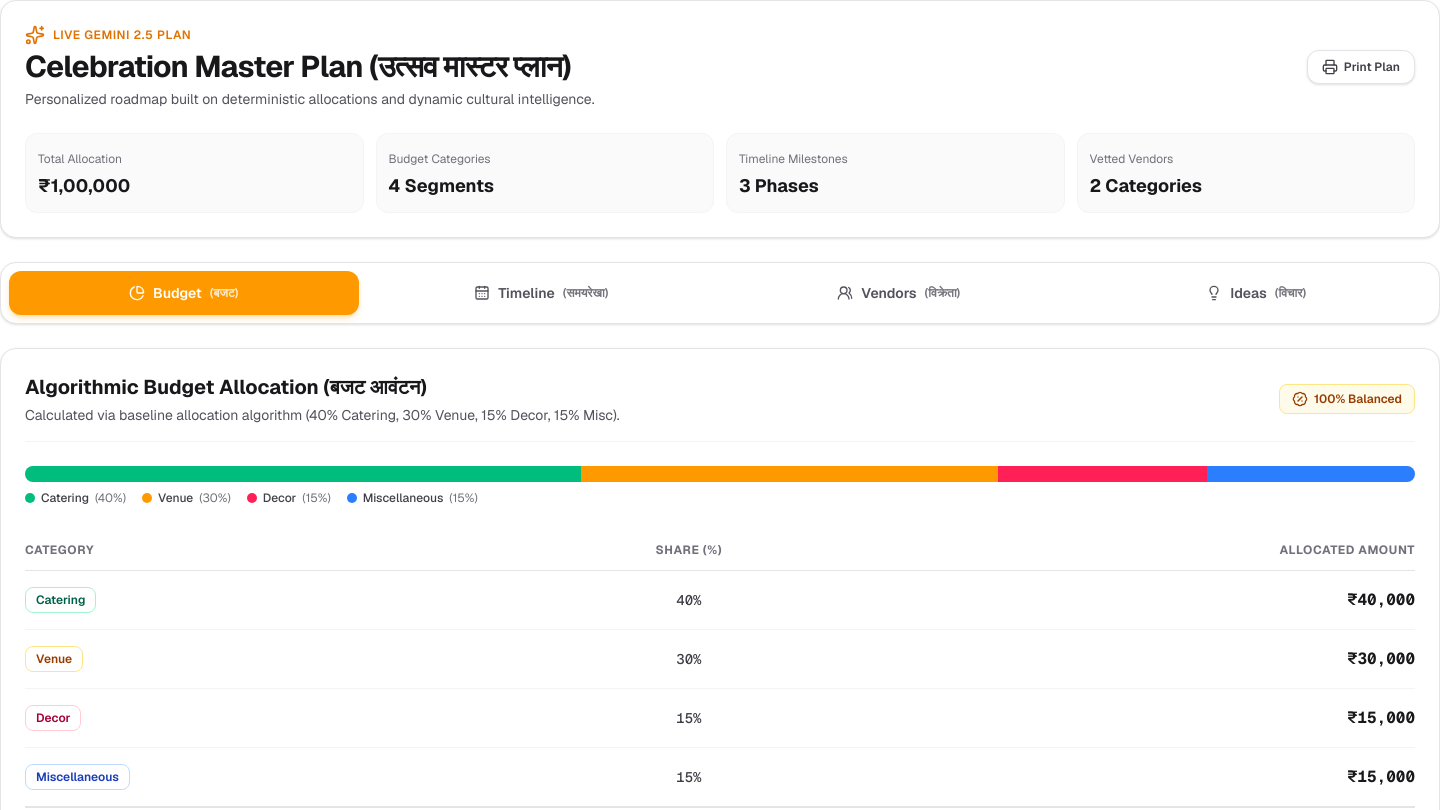
Day 2: UI, Dashboard & Accessibility Tests › 2. PlanDashboard Component & Full WAI-ARIA Tab Accessibility › should render Vendors tab with questions and accessible accordion toggles
Click the tab "Vendors (विक्रेता)". click: (899, 293)
box: [724,271,1074,315]
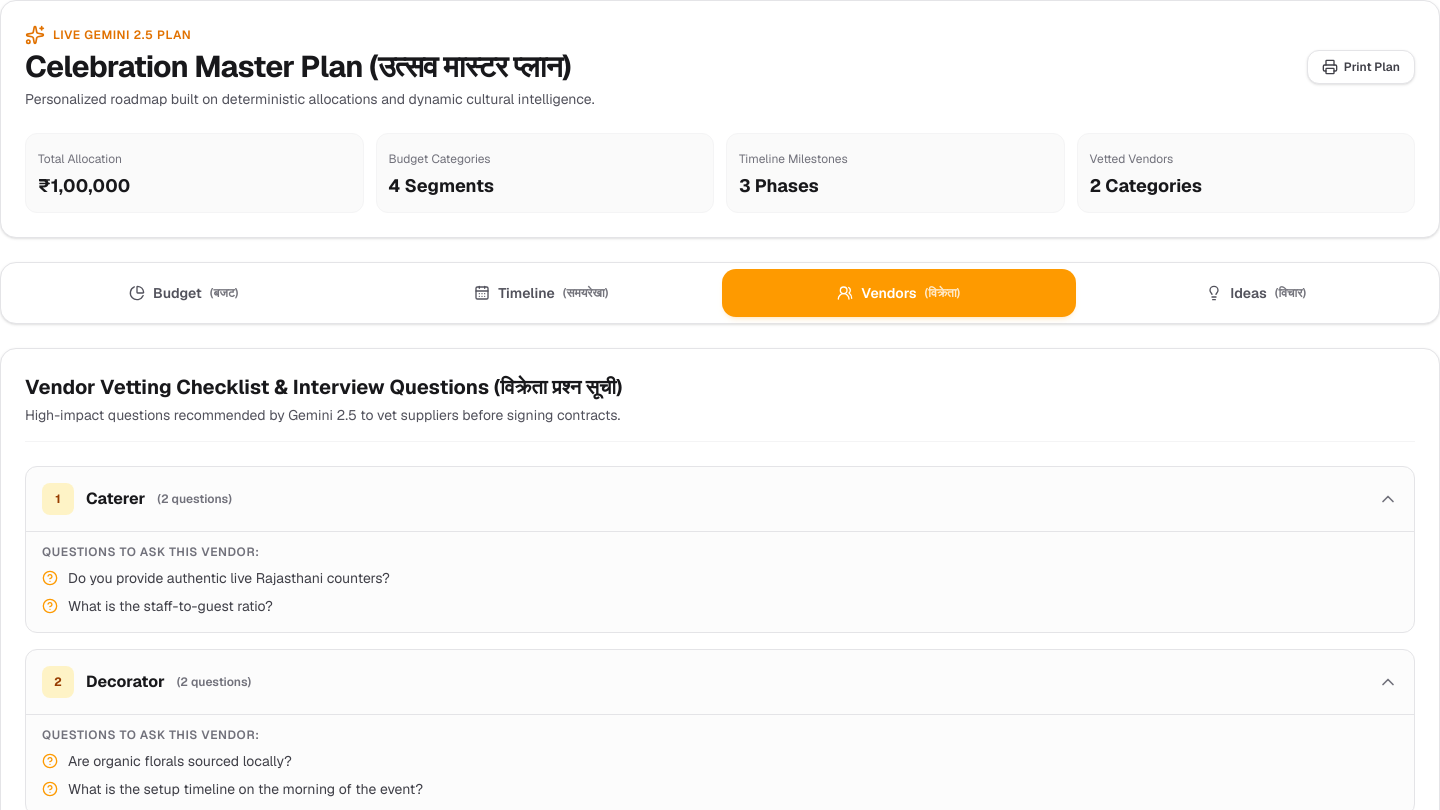
expect the text "Caterer" is shown: met, box [86,487,145,511]
expect the text "Decorator" is shown: met, box [86,670,165,694]
expect the text "Do you provide authentic live Rajasthani counters?" is shown: met, box [68,568,390,588]
Collapse accordion
Click the button "1 Caterer (2 questions)". click: (58, 499)
box: [26,467,1414,531]
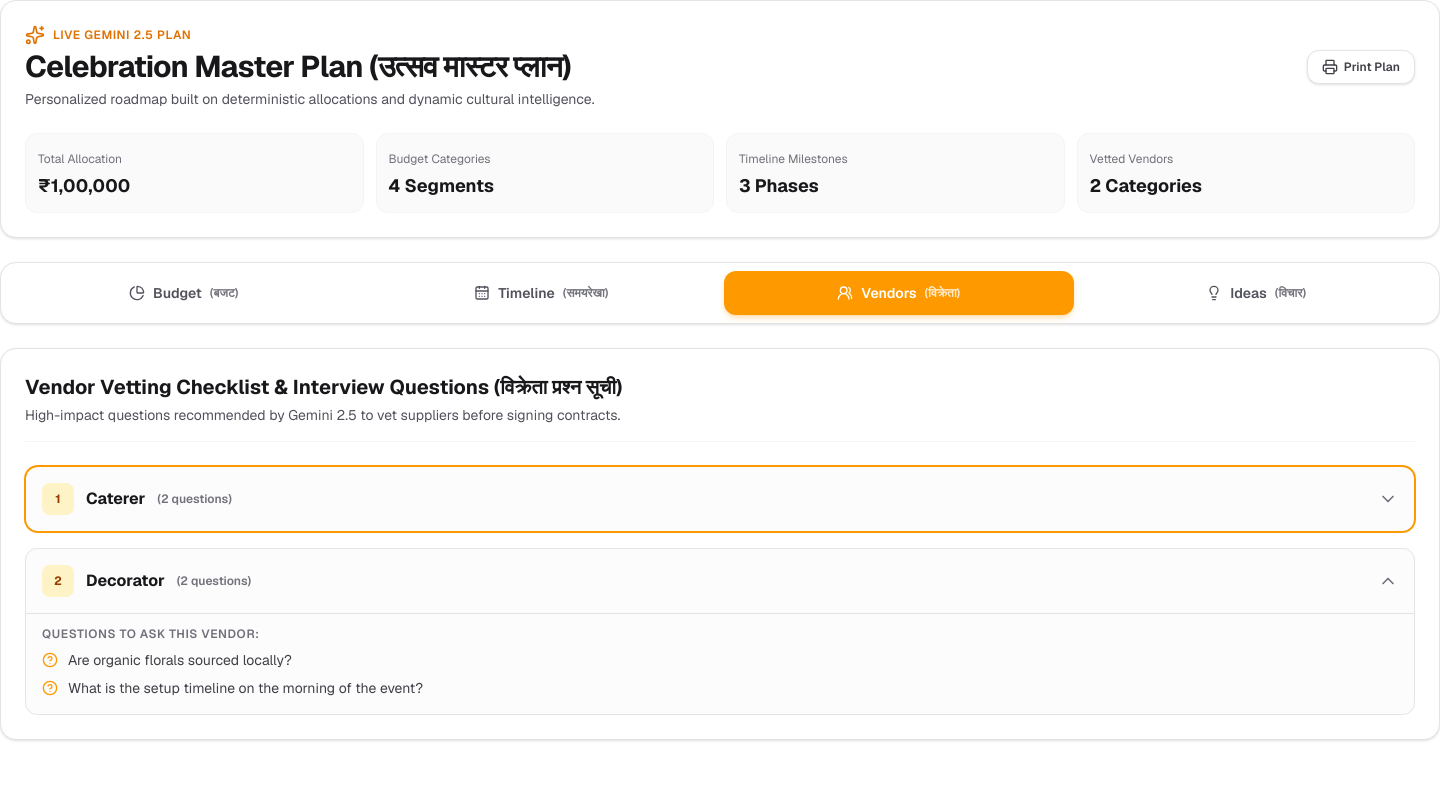
expect the button "1 Caterer (2 questions)" is collapsed: met, box [26,467,1414,531]
